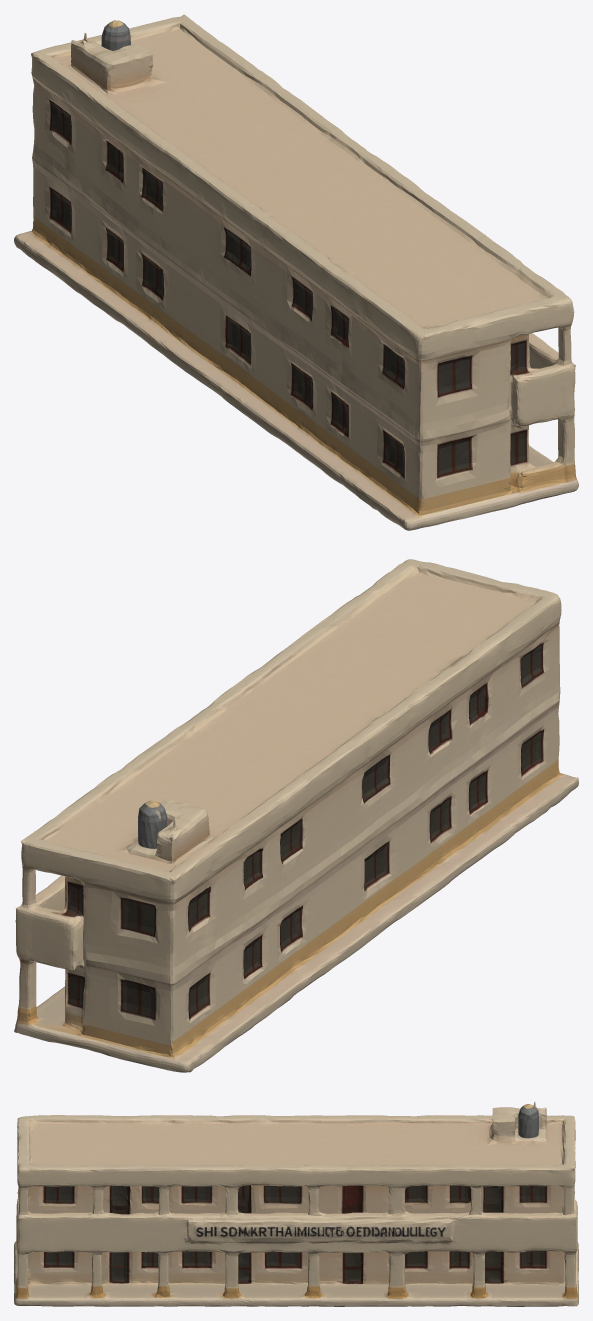
Rendered from ITI_Class.glb.
3 renders of one model, top to bottom at view 1: azimuth 30°, elevation 25°; view 2: azimuth 150°, elevation 25°; view 3: azimuth 270°, elevation 25°, orthographic. The views are drawn at different scales.
Visible parts, largest first — view 1: tripo_node_5c339b79-346d-4584-aeb1-80bab1c4ac03; view 2: tripo_node_5c339b79-346d-4584-aeb1-80bab1c4ac03; view 3: tripo_node_5c339b79-346d-4584-aeb1-80bab1c4ac03.
Boxes of the visible parts, bbox=[...] form: tripo_node_5c339b79-346d-4584-aeb1-80bab1c4ac03: bbox=[14, 14, 578, 530]; tripo_node_5c339b79-346d-4584-aeb1-80bab1c4ac03: bbox=[14, 559, 578, 1072]; tripo_node_5c339b79-346d-4584-aeb1-80bab1c4ac03: bbox=[14, 1101, 578, 1306].
Size of the model in its own units: 0.2625 by 0.3245 by 0.9997.
1 material, 1 textured.
